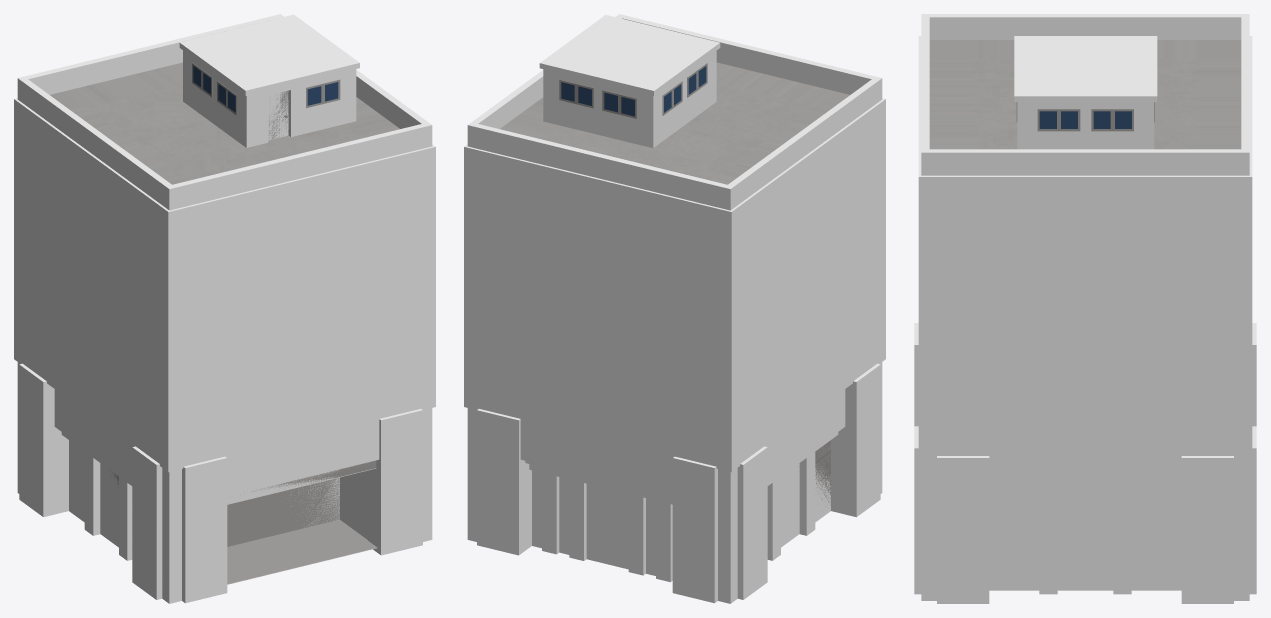
File: objects_un_c03building02_shop.gltf
3 views of the same model, side by side, from view 1: azimuth 30°, elevation 25°; view 2: azimuth 150°, elevation 25°; view 3: azimuth 270°, elevation 25° (orthographic). The views are drawn at different scales.
Visible parts, largest first — view 1: um_objects_un_c03building02_shop_model_lod0Shape:objects_un_ (×3), nomerge_glass01_shape:objects_un_c03building02_glass01; view 2: um_objects_un_c03building02_shop_model_lod0Shape:objects_un_ (×3), nomerge_glass01_shape:objects_un_c03building02_glass01, um_objects_un_c03building02_shop_model_lod2Shape:objects_un_; view 3: um_objects_un_c03building02_shop_model_lod0Shape:objects_un_ (×2), nomerge_glass01_shape:objects_un_c03building02_glass01, um_objects_un_c03building02_shop_model_lod2Shape:objects_un_.
Part boxes in pixels (x1,y1,x2,y2): um_objects_un_c03building02_shop_model_lod0Shape:objects_un_ (×3): [14, 14, 435, 603]; nomerge_glass01_shape:objects_un_c03building02_glass01: [193, 66, 338, 112]; um_objects_un_c03building02_shop_model_lod0Shape:objects_un_ (×3): [464, 14, 885, 603]; nomerge_glass01_shape:objects_un_c03building02_glass01: [561, 66, 706, 116]; um_objects_un_c03building02_shop_model_lod2Shape:objects_un_: [560, 64, 706, 117]; um_objects_un_c03building02_shop_model_lod0Shape:objects_un_ (×2): [914, 14, 1256, 603]; nomerge_glass01_shape:objects_un_c03building02_glass01: [1039, 111, 1131, 128]; um_objects_un_c03building02_shop_model_lod2Shape:objects_un_: [1038, 110, 1132, 130].
Size of what is drawn, in the model's own units: 12.04 by 18.99 by 12.04.
Materials: 6 (5 with a texture image).
